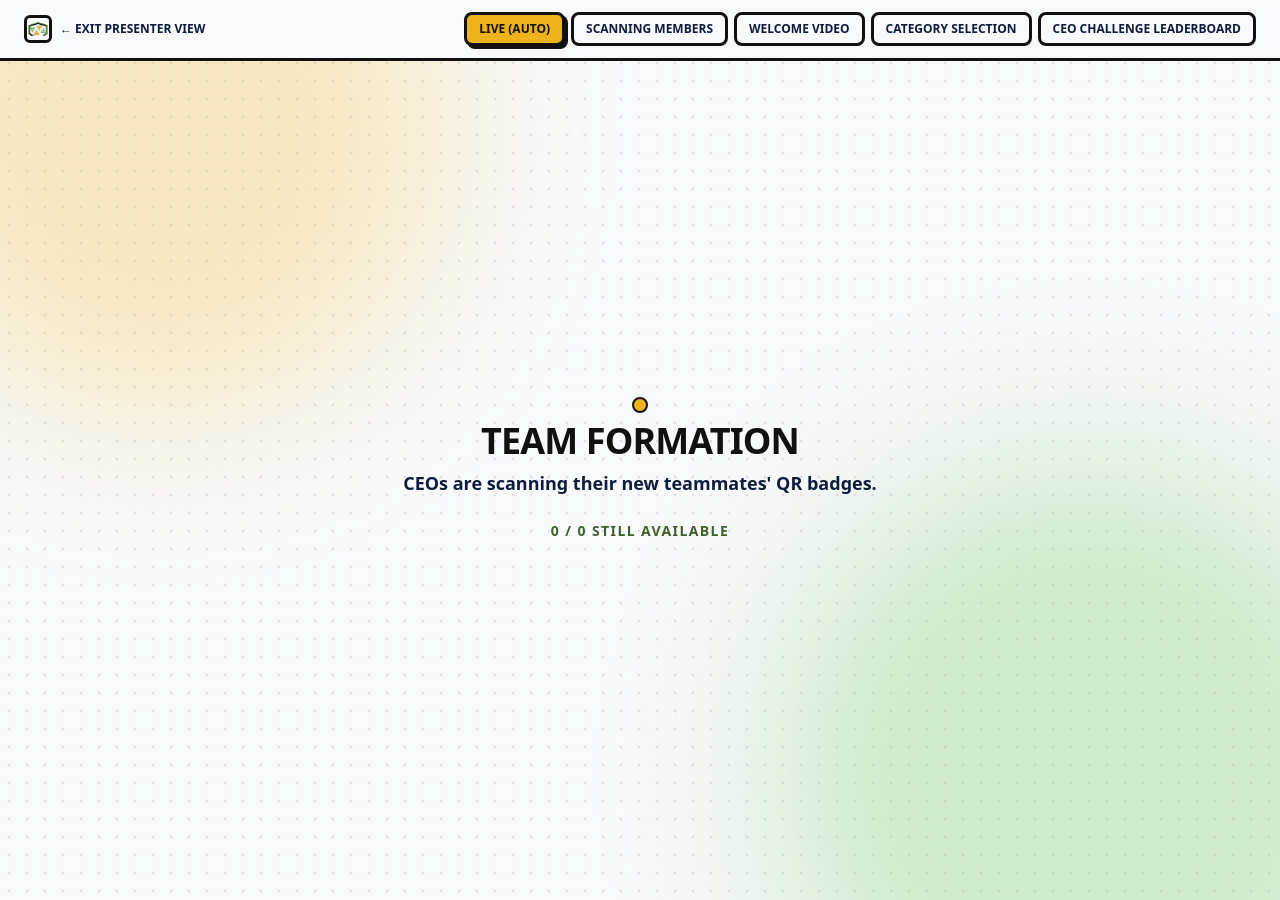
it: Presenter — Category Selection › 4. a category with multiple finalized teams shows each team name
Step 1. Click the button "Category selection" → point(951, 29), box [871,12,1032,46]
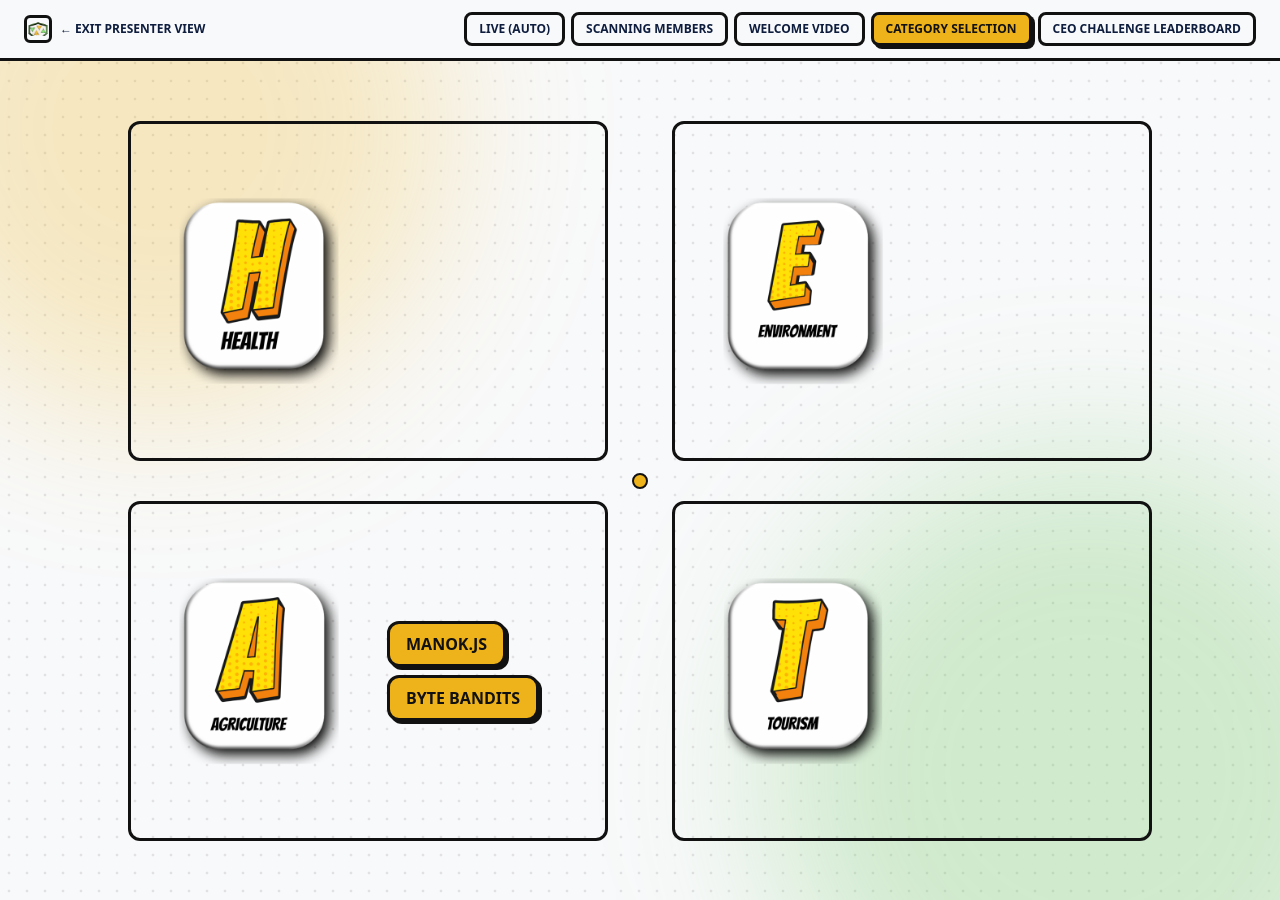
Expected: the elements with test id "presenter-category-team-AGRICULTURE" read "Manok.js", "Byte Bandits", in this order, [387,620,506,666]; [387,674,539,720]
